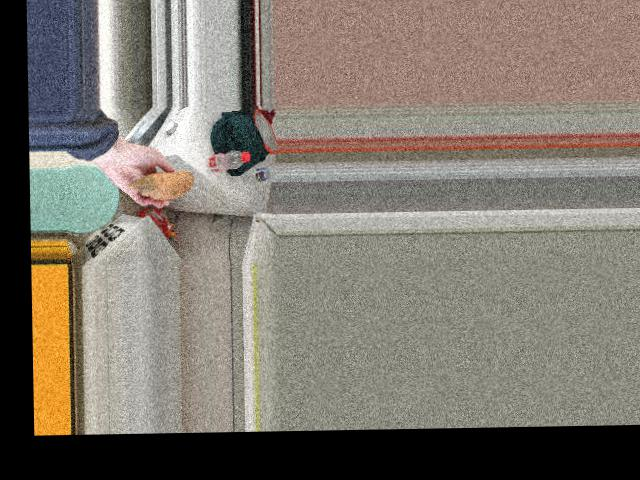sweet_potato: (139, 171, 208, 197)
